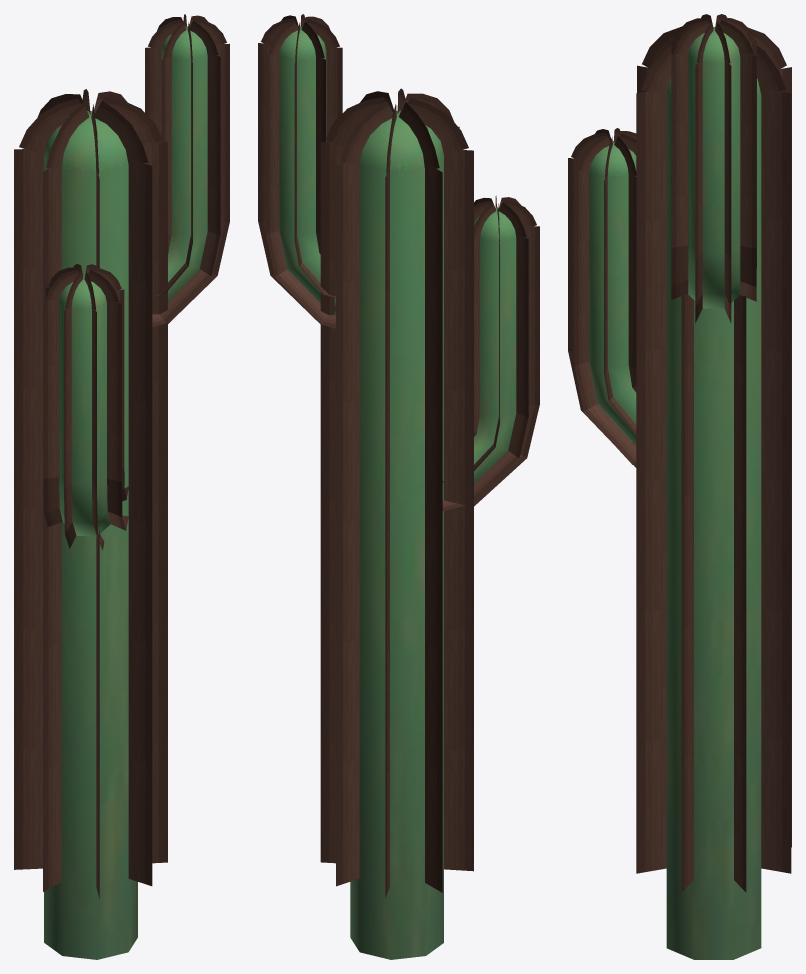
The model's file is Canyon_Cactus_Tall_3.glb.
The picture shows the model from 3 angles, left to right: view 1: azimuth 30°, elevation 25°; view 2: azimuth 150°, elevation 25°; view 3: azimuth 270°, elevation 25°; orthographic projection. The views are drawn at different scales.
Parts seen in each view (by area): view 1: Canyon_Cactus_Tall_3_0; view 2: Canyon_Cactus_Tall_3_0; view 3: Canyon_Cactus_Tall_3_0.
Part boxes in pixels (left/top/right/bottom): Canyon_Cactus_Tall_3_0: left=14, top=14, right=229, bottom=959; Canyon_Cactus_Tall_3_0: left=258, top=14, right=539, bottom=959; Canyon_Cactus_Tall_3_0: left=568, top=14, right=791, bottom=959.
Bounding box in the file's own units: 0.5968 × 2.32 × 0.4843.
1 material, 1 textured.
